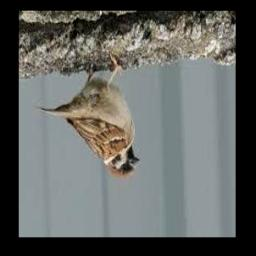Sparrow: (37, 57, 141, 178)
